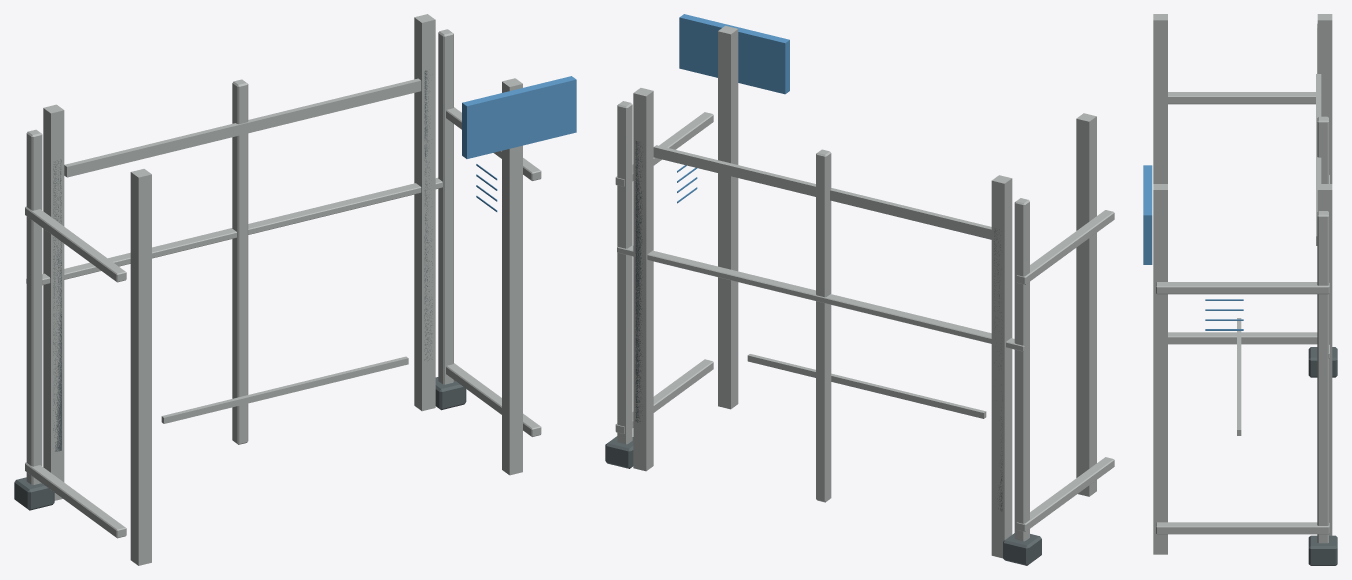
File: Module_Shelter_Frame.fbx
3 renders of one model, left to right at view 1: azimuth 30°, elevation 25°; view 2: azimuth 150°, elevation 25°; view 3: azimuth 270°, elevation 25°, orthographic. The views are drawn at different scales.
Parts seen in each view (by area): view 1: Module_Shelter_Frame__LPCXFER; view 2: Module_Shelter_Frame__LPCXFER; view 3: Module_Shelter_Frame__LPCXFER.
Part boxes in pixels (box(x1,y1,x2,y2)): Module_Shelter_Frame__LPCXFER: box(14, 14, 576, 565); Module_Shelter_Frame__LPCXFER: box(605, 14, 1114, 565); Module_Shelter_Frame__LPCXFER: box(1143, 14, 1337, 565).
Size of the model in its own units: 273 by 220 by 106.
